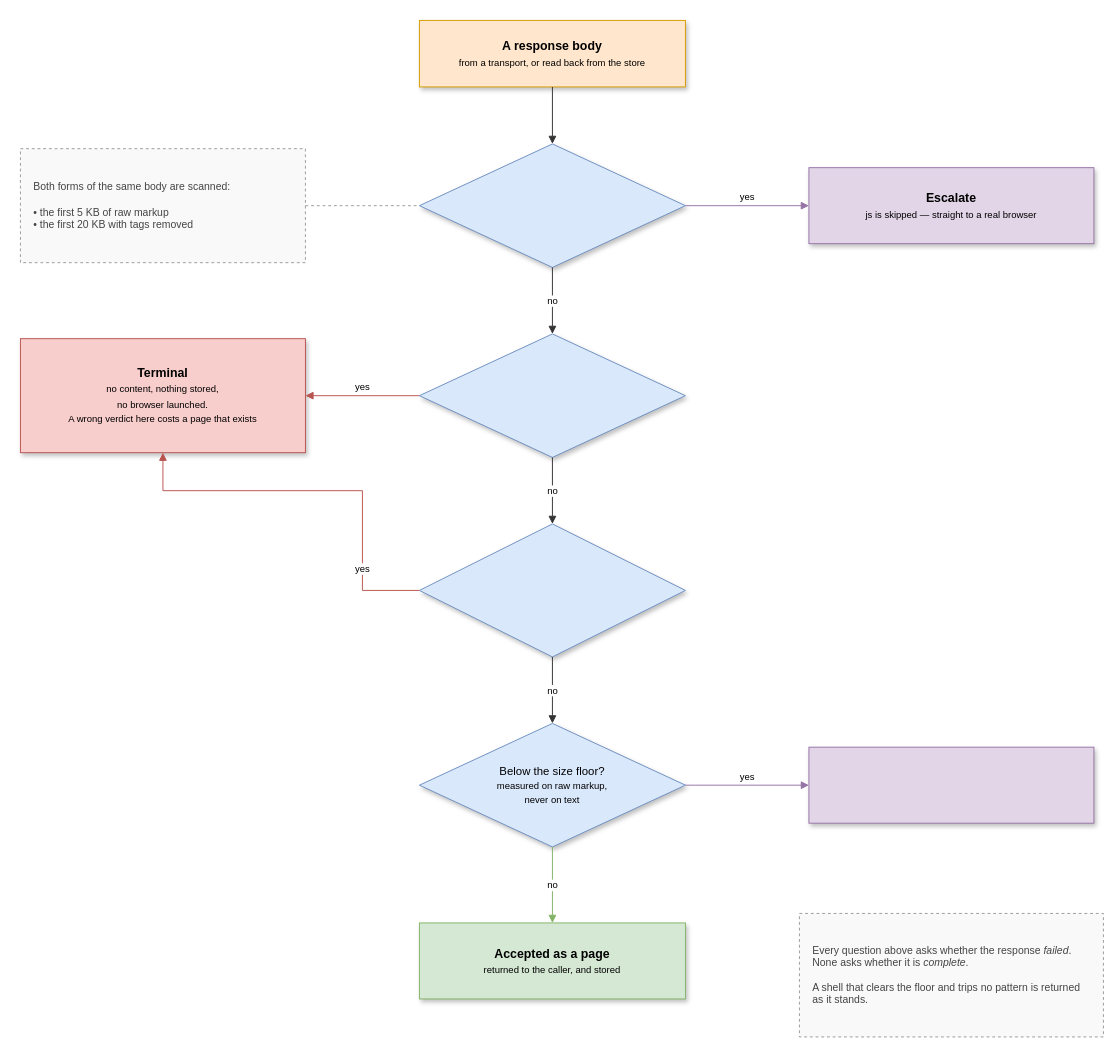
Some shapes in this 1120 by 1054 pixel diagram are drawn without their labels. Here are the shapes that lost their labels. From the top down, the centre of each, then its label:
the point at 553,206: Wall, challenge or throttle stub?
the point at 553,396: Not-found or gone? decisive phrasing, at any size
the point at 553,591: Ambiguous not-found phrasing, and below the size floor?
the point at 952,786: Not a page escalate to the next rung
